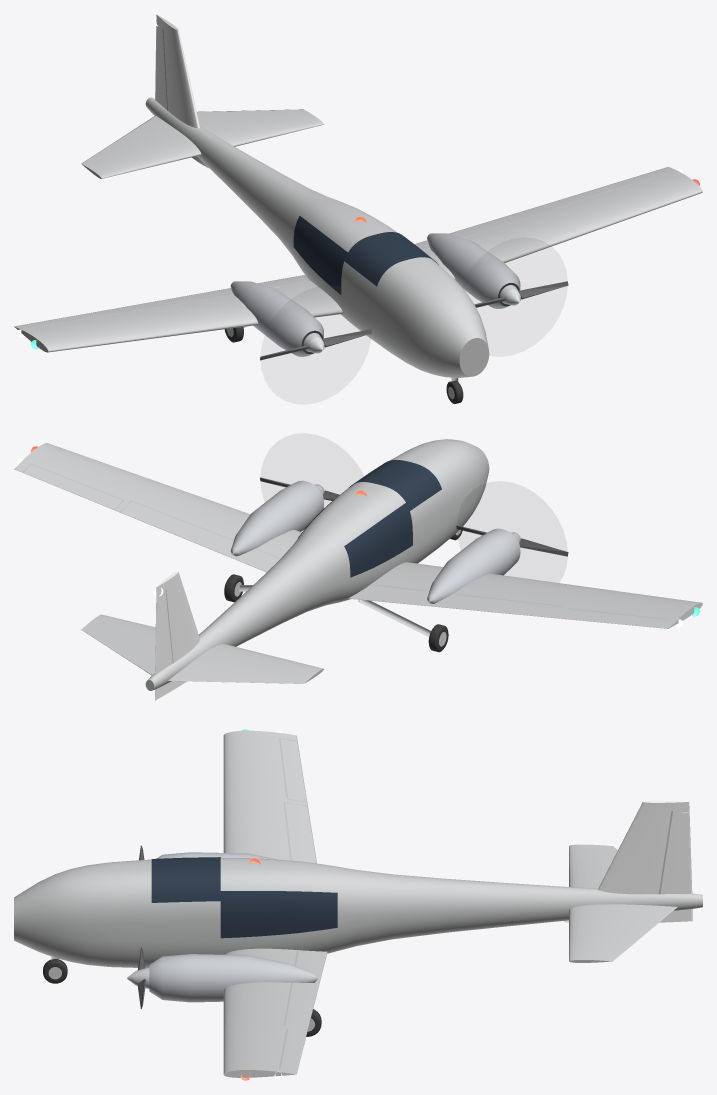
The picture shows the model from 3 angles, top to bottom: view 1: azimuth 30°, elevation 25°; view 2: azimuth 150°, elevation 25°; view 3: azimuth 270°, elevation 25°; orthographic projection. The views are drawn at different scales.
Visible parts, largest first — view 1: airframe, gear, prop; view 2: airframe, gear, prop; view 3: airframe, gear.
Boxes of the visible parts, x1,y1,x2,y2 form: airframe: (14, 14, 702, 377); gear: (224, 326, 463, 404); prop: (260, 329, 371, 360); airframe: (14, 439, 702, 700); gear: (224, 526, 463, 652); prop: (456, 525, 568, 556); airframe: (14, 729, 702, 1080); gear: (43, 957, 321, 1036).
Bounding box in the file's own units: 11.52 × 2.91 × 9.7.
